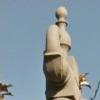Statue: (30, 3, 87, 98)
